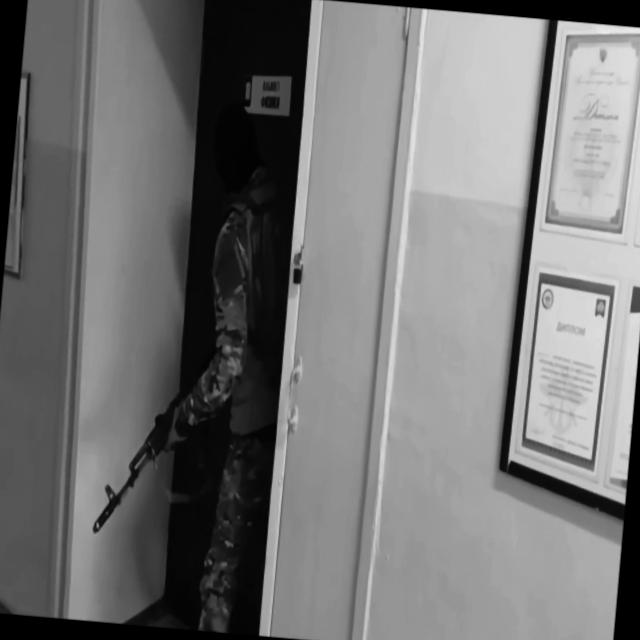gun: (90, 334, 220, 550)
person with a gun: (84, 94, 303, 636)
